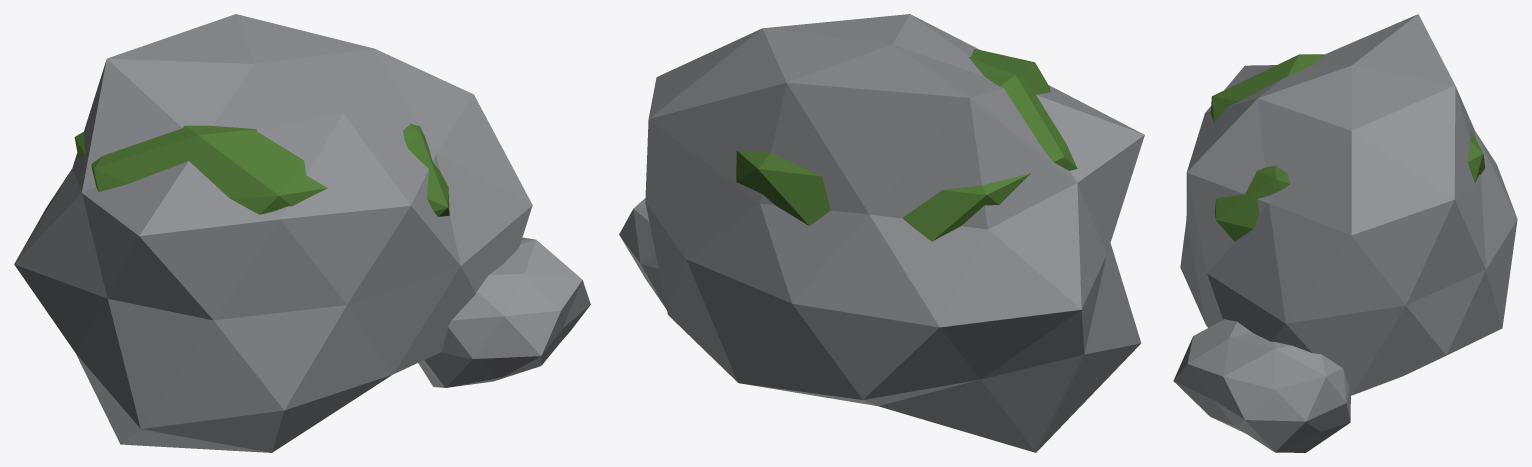
File: rock_a.glb
3 views of the same model, side by side, from view 1: azimuth 30°, elevation 25°; view 2: azimuth 150°, elevation 25°; view 3: azimuth 270°, elevation 25° (orthographic). The views are drawn at different scales.
Parts seen in each view (by area): view 1: rock_a; view 2: rock_a; view 3: rock_a.
Part boxes in pixels (bbox=[...]): rock_a: bbox=[14, 14, 590, 452]; rock_a: bbox=[619, 14, 1144, 452]; rock_a: bbox=[1173, 14, 1517, 452].
Size of the model in its own units: 1.96 by 1.35 by 1.35.
